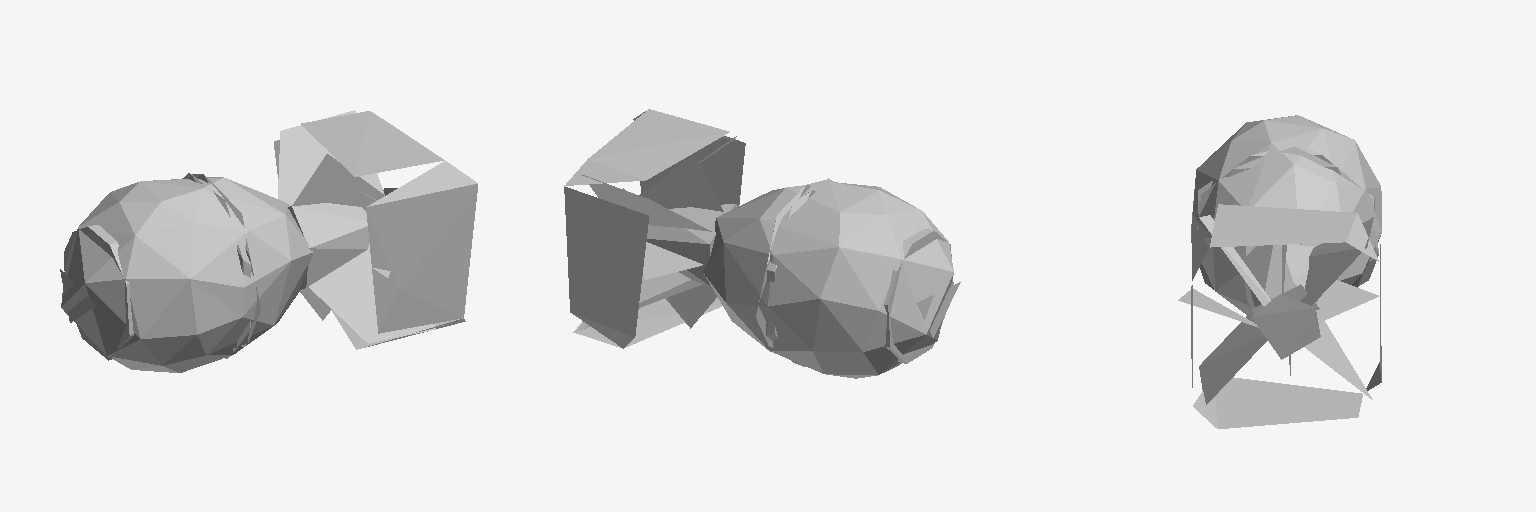
Rendered from Genesis_Bomb.obj.
3 views of the same model, side by side, from view 1: azimuth 30°, elevation 25°; view 2: azimuth 150°, elevation 25°; view 3: azimuth 270°, elevation 25° (orthographic).
Bounding box in the file's own units: 1.16 × 0.5458 × 0.5766.